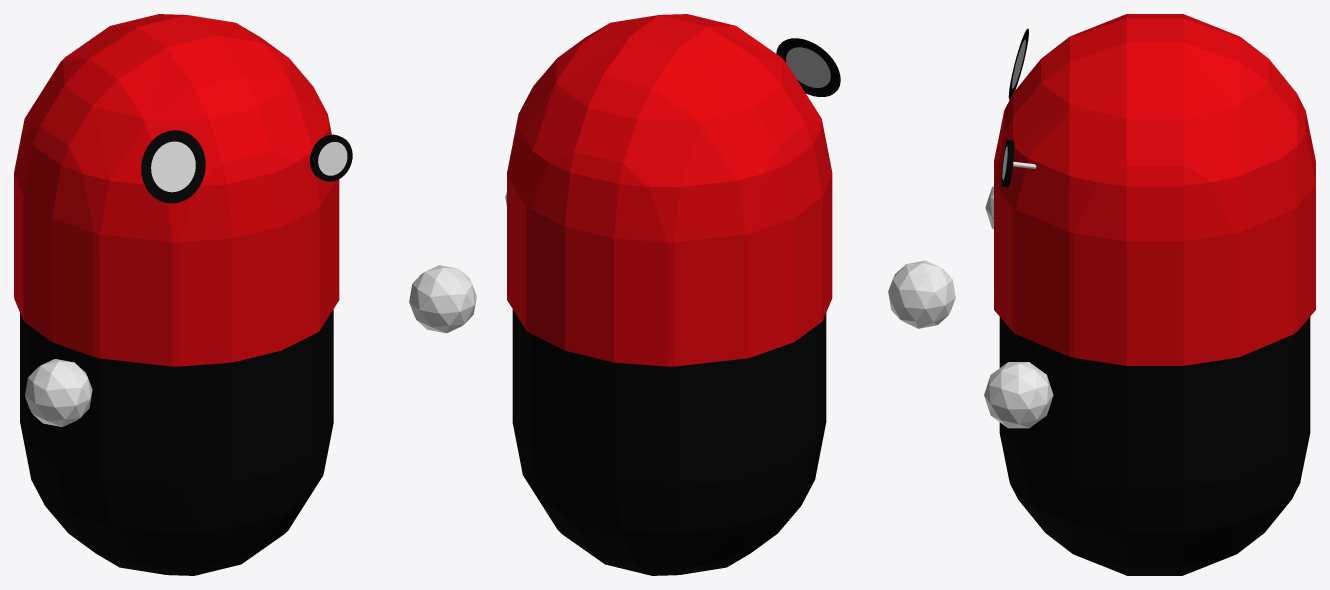
File: Deadpill.fbx
3 views of the same model, side by side, from view 1: azimuth 30°, elevation 25°; view 2: azimuth 150°, elevation 25°; view 3: azimuth 270°, elevation 25° (orthographic).
Visible parts, largest first — view 1: Mball.001, Circle, Icosphere, Icosphere.001, Circle.001; view 2: Mball.001, Icosphere.001, Circle; view 3: Mball.001, Icosphere, Circle.001, Circle.
Part boxes in pixels (x1=…): Mball.001: x1=14, y1=14, x2=339, y2=575; Circle: x1=141, y1=130, x2=205, y2=203; Icosphere: x1=409, y1=265, x2=476, y2=333; Icosphere.001: x1=25, y1=359, x2=92, y2=426; Circle.001: x1=310, y1=134, x2=352, y2=181; Mball.001: x1=507, y1=14, x2=832, y2=575; Icosphere.001: x1=888, y1=260, x2=955, y2=328; Circle: x1=776, y1=38, x2=840, y2=96; Mball.001: x1=994, y1=14, x2=1315, y2=575; Icosphere: x1=984, y1=362, x2=1053, y2=428; Circle.001: x1=1001, y1=140, x2=1036, y2=187; Circle: x1=1008, y1=28, x2=1028, y2=99.
Bounding box in the file's own units: 373 × 427 × 242.
